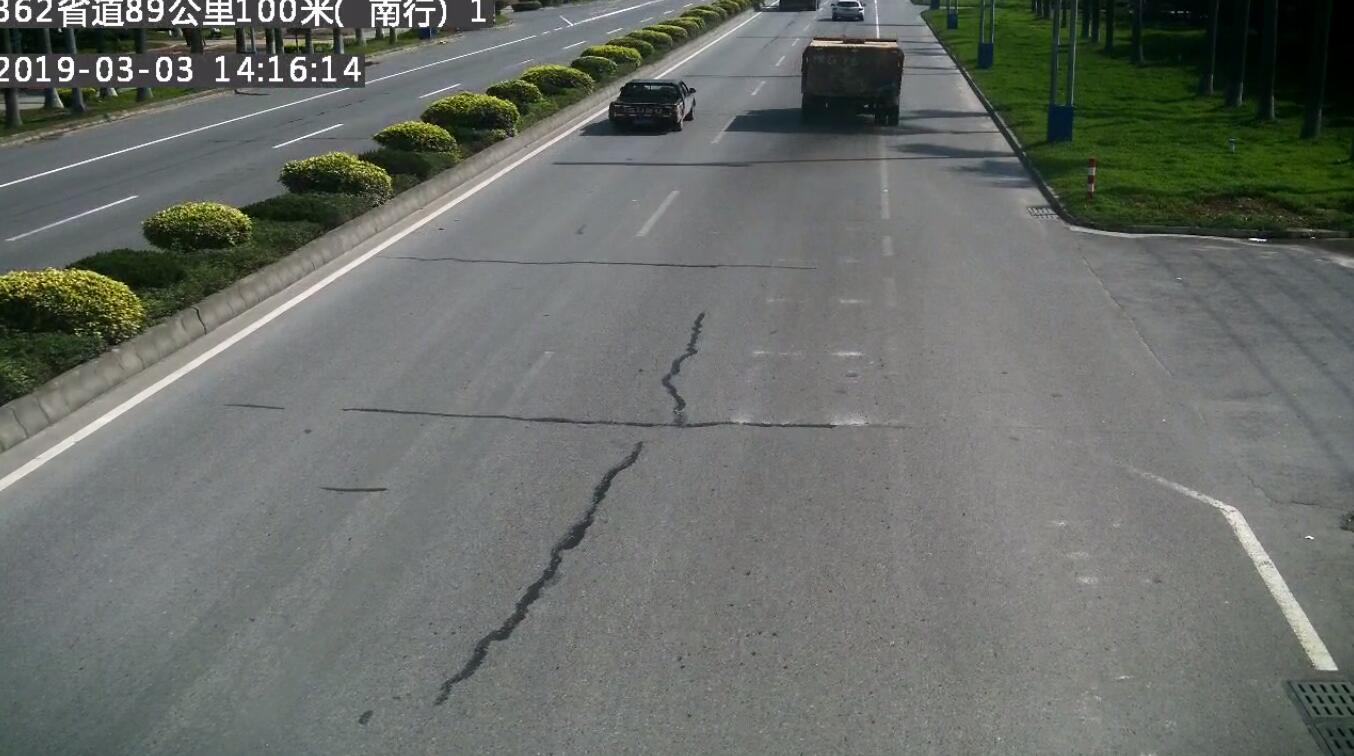yanwu: (775, 120, 891, 175)
